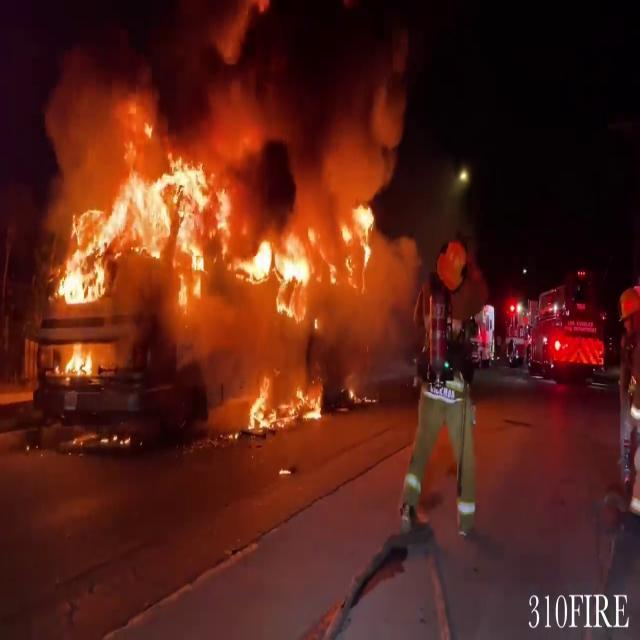Fire: (41, 128, 413, 412)
